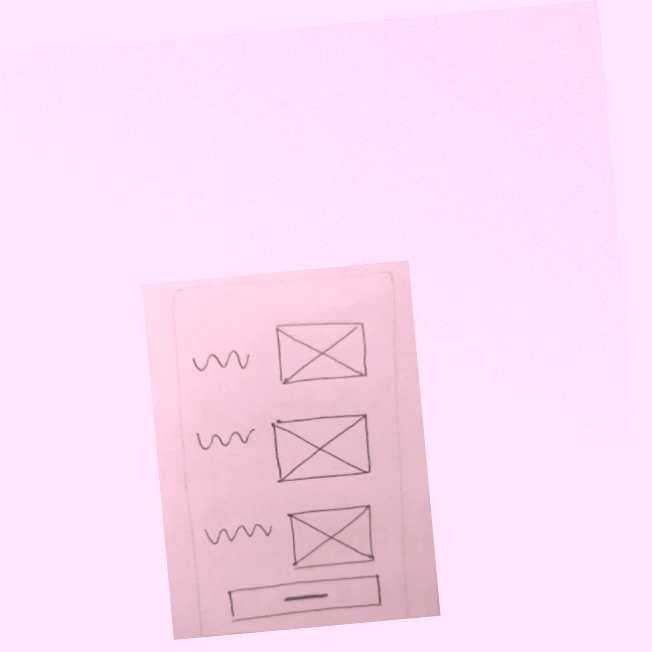button: (216, 569, 392, 629)
image: (266, 305, 376, 396), (266, 405, 378, 490), (283, 500, 382, 573)
text: (199, 515, 281, 555), (188, 342, 252, 384), (191, 421, 258, 456)
